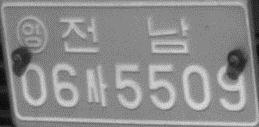0: (181, 64, 211, 111), (20, 63, 48, 106)
5: (146, 62, 177, 110), (114, 64, 142, 109)
6: (50, 62, 79, 108)
9: (217, 64, 245, 113)
사: (83, 65, 109, 105)
영: (15, 15, 48, 54)
전남_D: (57, 16, 189, 55)
